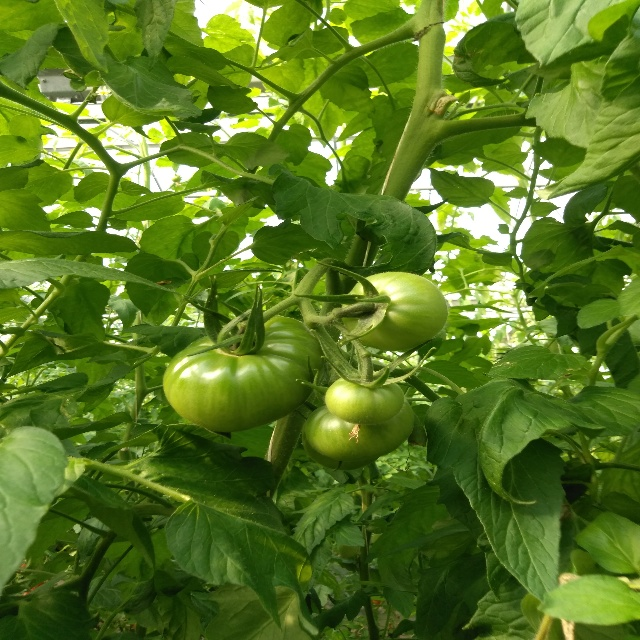b_green: (162, 312, 325, 433), (340, 272, 449, 351), (305, 397, 414, 461), (325, 373, 405, 425)
